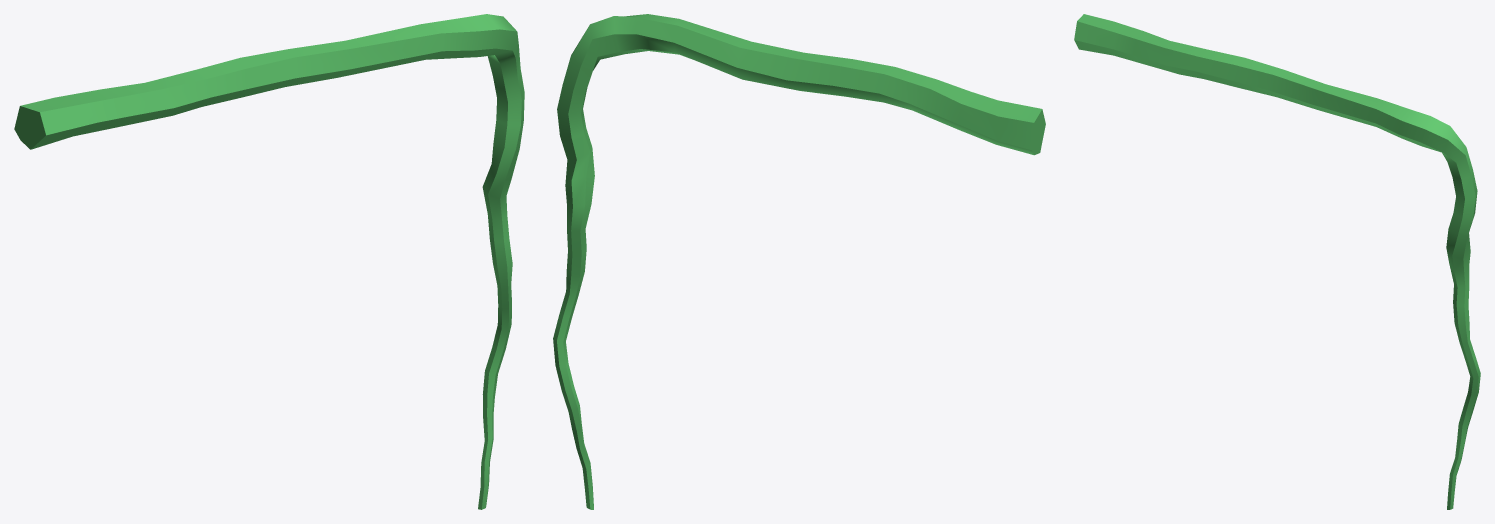
File: roots_solo_A_C.fbx
3 views of the same model, side by side, from view 1: azimuth 30°, elevation 25°; view 2: azimuth 150°, elevation 25°; view 3: azimuth 330°, elevation 25° (orthographic). The views are drawn at different scales.
Parts seen in each view (by area): view 1: roots_solo_A_C; view 2: roots_solo_A_C; view 3: roots_solo_A_C.
Boxes of the visible parts, left/top/right/bottom form: roots_solo_A_C: left=14, top=14, right=524, bottom=509; roots_solo_A_C: left=553, top=14, right=1045, bottom=509; roots_solo_A_C: left=1074, top=14, right=1480, bottom=509.
Size of the model in its own units: 180 by 177 by 23.99.
